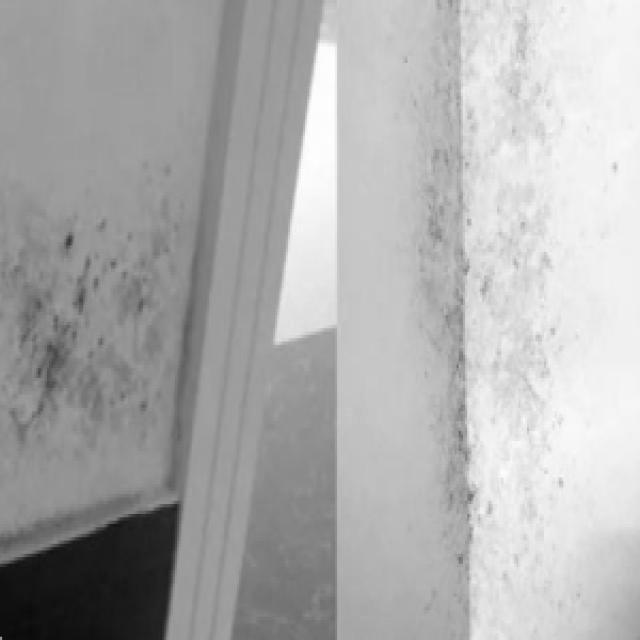stain marks: (408, 0, 566, 637), (0, 156, 190, 467)
